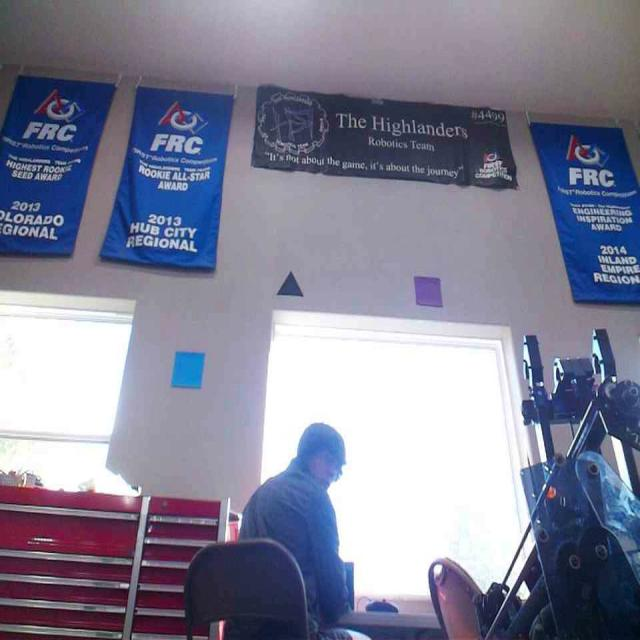square_blue: (170, 350, 206, 388)
square_purple: (413, 274, 442, 306)
triangle_black: (276, 269, 304, 296)
